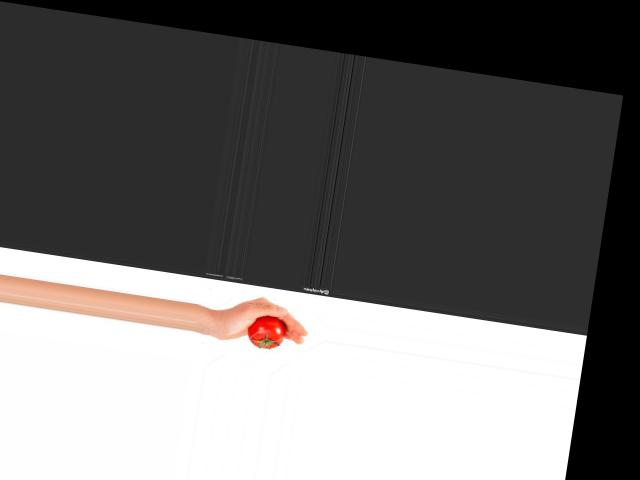tomato: (244, 313, 286, 350)
